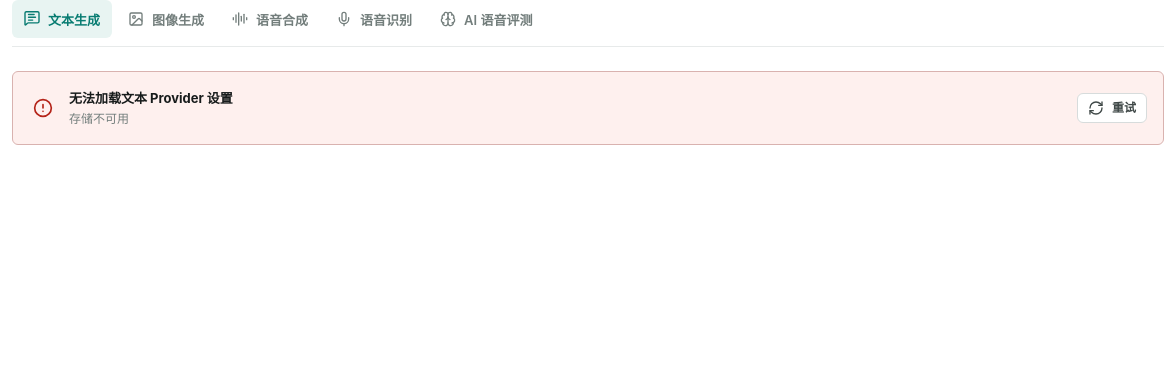
Scenario: AIRouterSettingsPage › shows a retryable page error when text settings cannot load
expect the message shows "无法加载文本 Provider 设置": met, box [69,90,233,106]
expect the message shows "存储不可用": met, box [69,111,129,126]
Step 1. Click the button "重试" → {"x": 1112, "y": 108}, box [1077,93,1147,123]
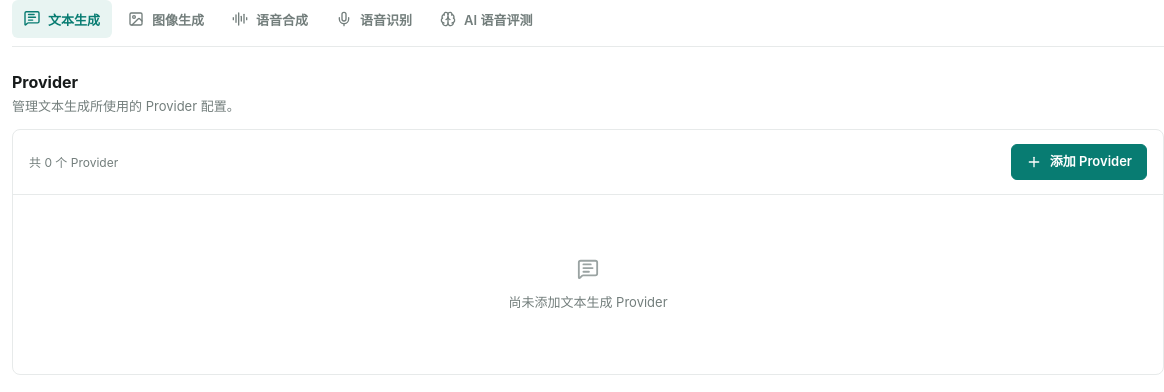
expect the text "尚未添加文本生成 Provider" is shown: met, box [508,292,668,311]
